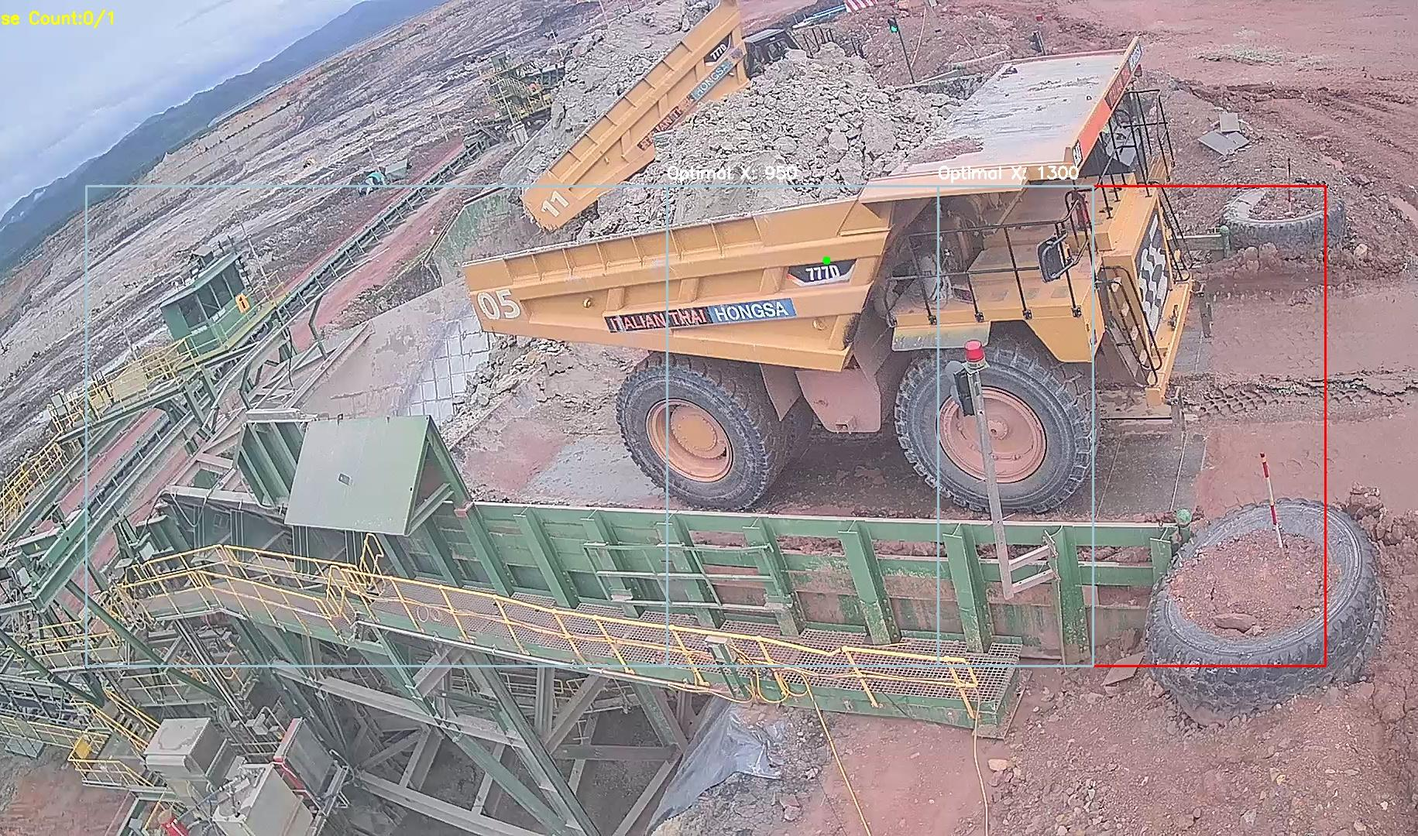company: (592, 283, 800, 339)
full_load: (625, 49, 903, 223)
mining_truck: (450, 28, 1223, 511)
tail_number: (465, 284, 538, 333)
truck_size: (780, 251, 857, 285)
